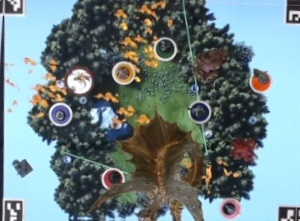blue: (185, 97, 211, 125)
green: (152, 34, 177, 60)
orange: (246, 68, 275, 93)
pink: (219, 194, 244, 219)
red: (100, 166, 125, 191)
violet: (45, 99, 74, 128)
yellow: (108, 56, 136, 85)
